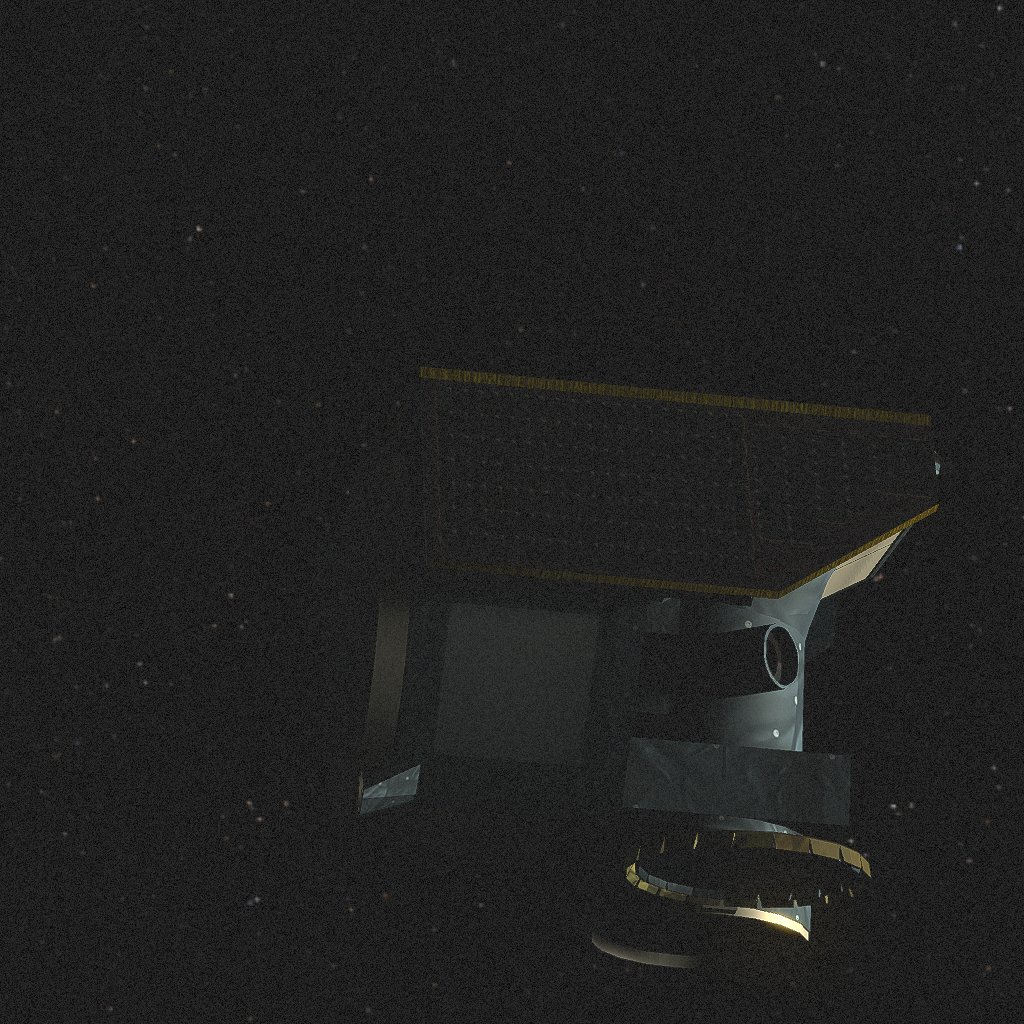cheops: (325, 350, 919, 987)
